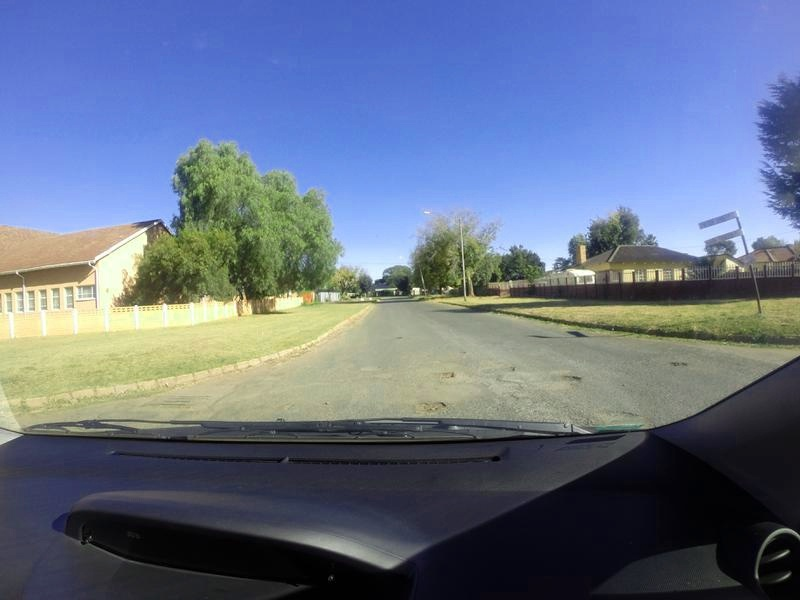pothole: (597, 402, 648, 423), (416, 390, 458, 411), (434, 369, 472, 387), (557, 369, 593, 387), (667, 356, 698, 369)
